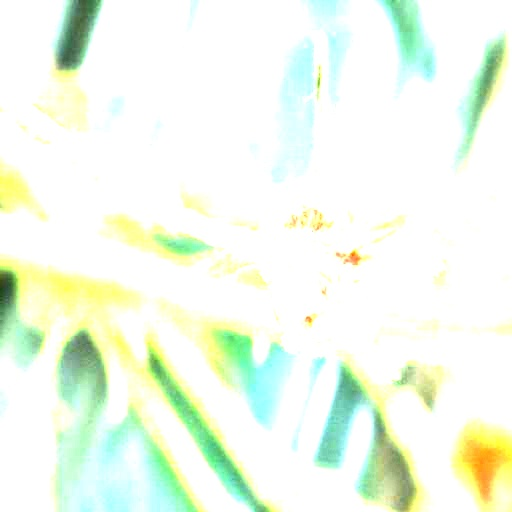Gray Mold: (197, 129, 447, 380)
